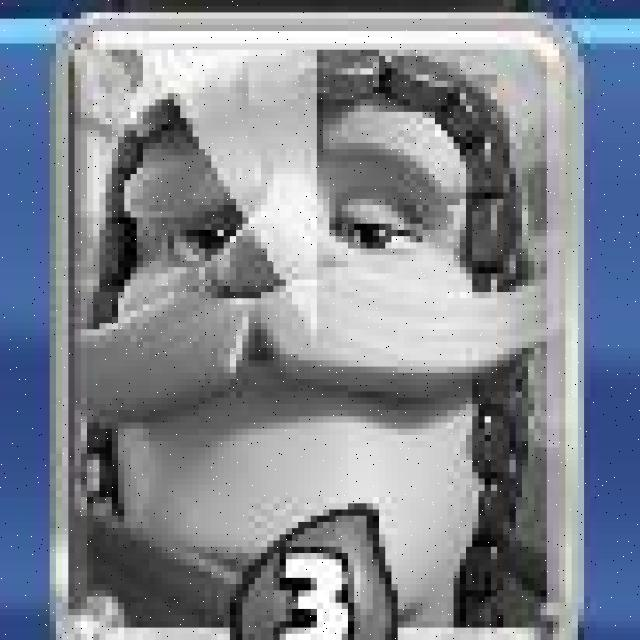Knight: (47, 7, 580, 640)
